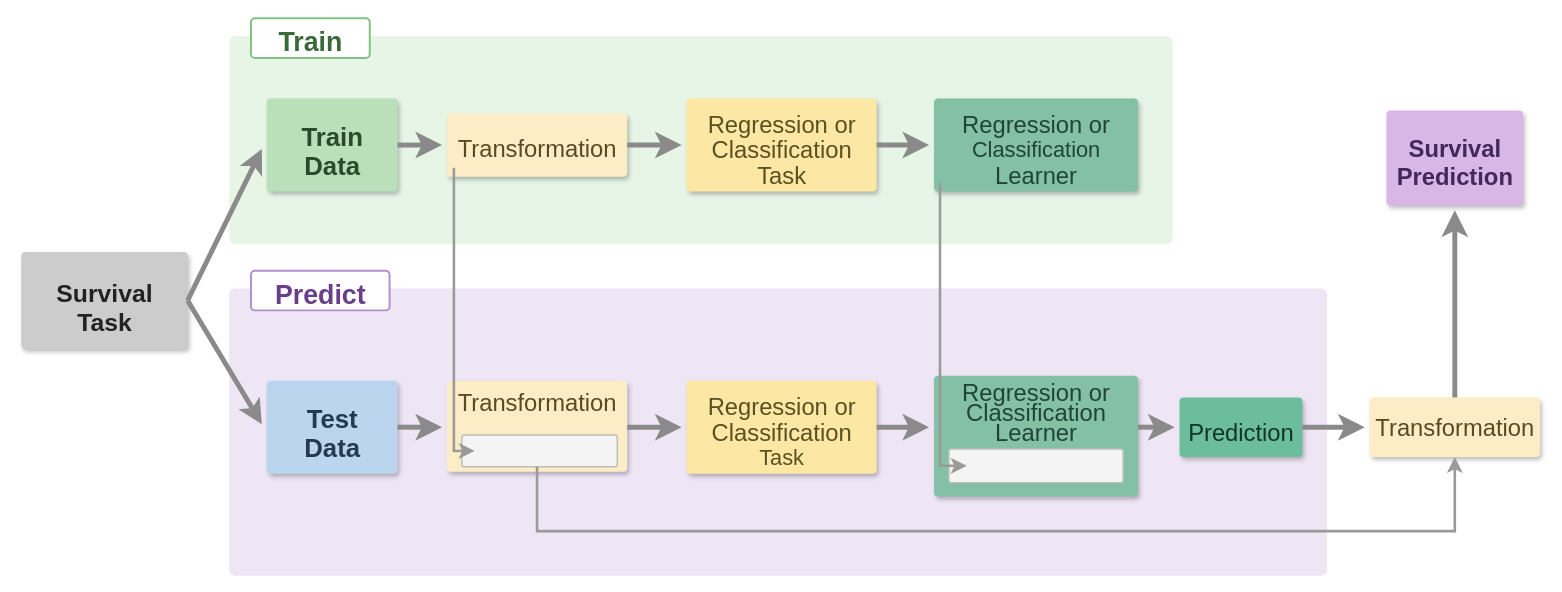
This 1562x592 diagram has some shape labels left out. The centre of each missing label's shape, as x and y in pixels:
"Trafo Parameters" belongs at [539,450].
"Trained Model" belongs at [1035,465].
